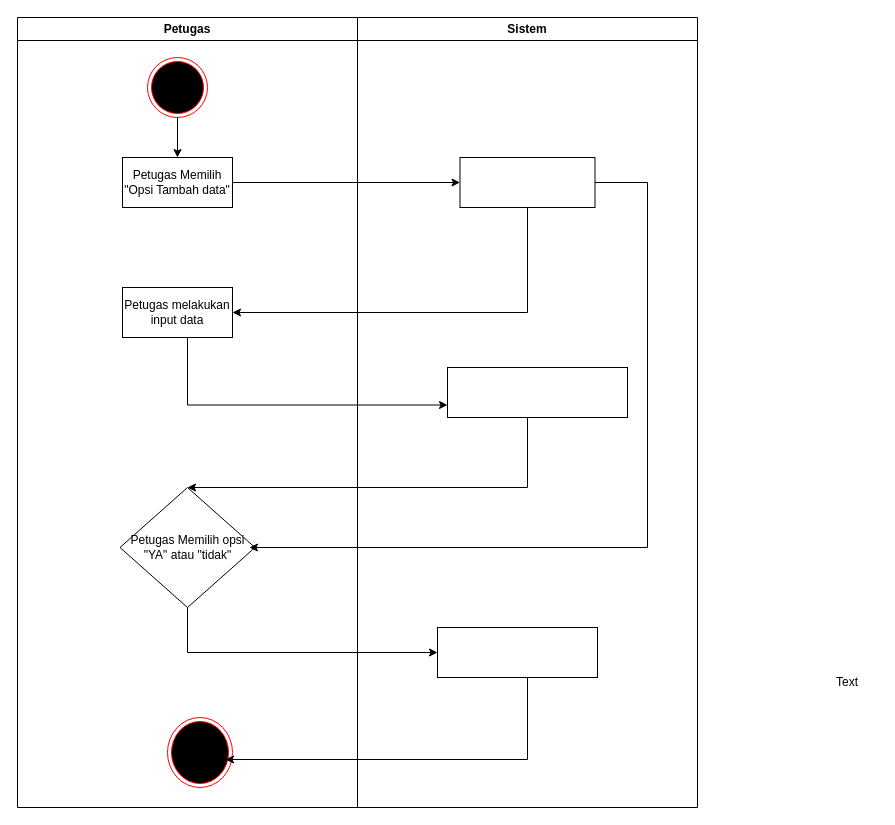
Image size: 895x825. Some labels were removed from this diagram. The box of each missing label's shape, as (x1, y1, x2, y2) in pixels:
Sistem Menampikan pop-up "Apakah data sudah benar?: (446, 366, 628, 418)
Sistem Menampilkan form: (459, 156, 595, 208)
Sistem menyimpan data ke data base dan kembali dan kembali menamppilkan fr: (436, 626, 598, 678)
